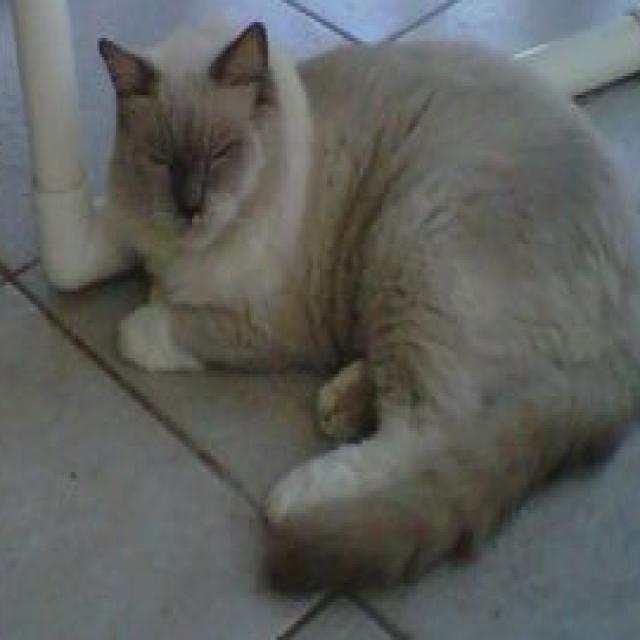Ragdoll: (92, 6, 640, 605)
